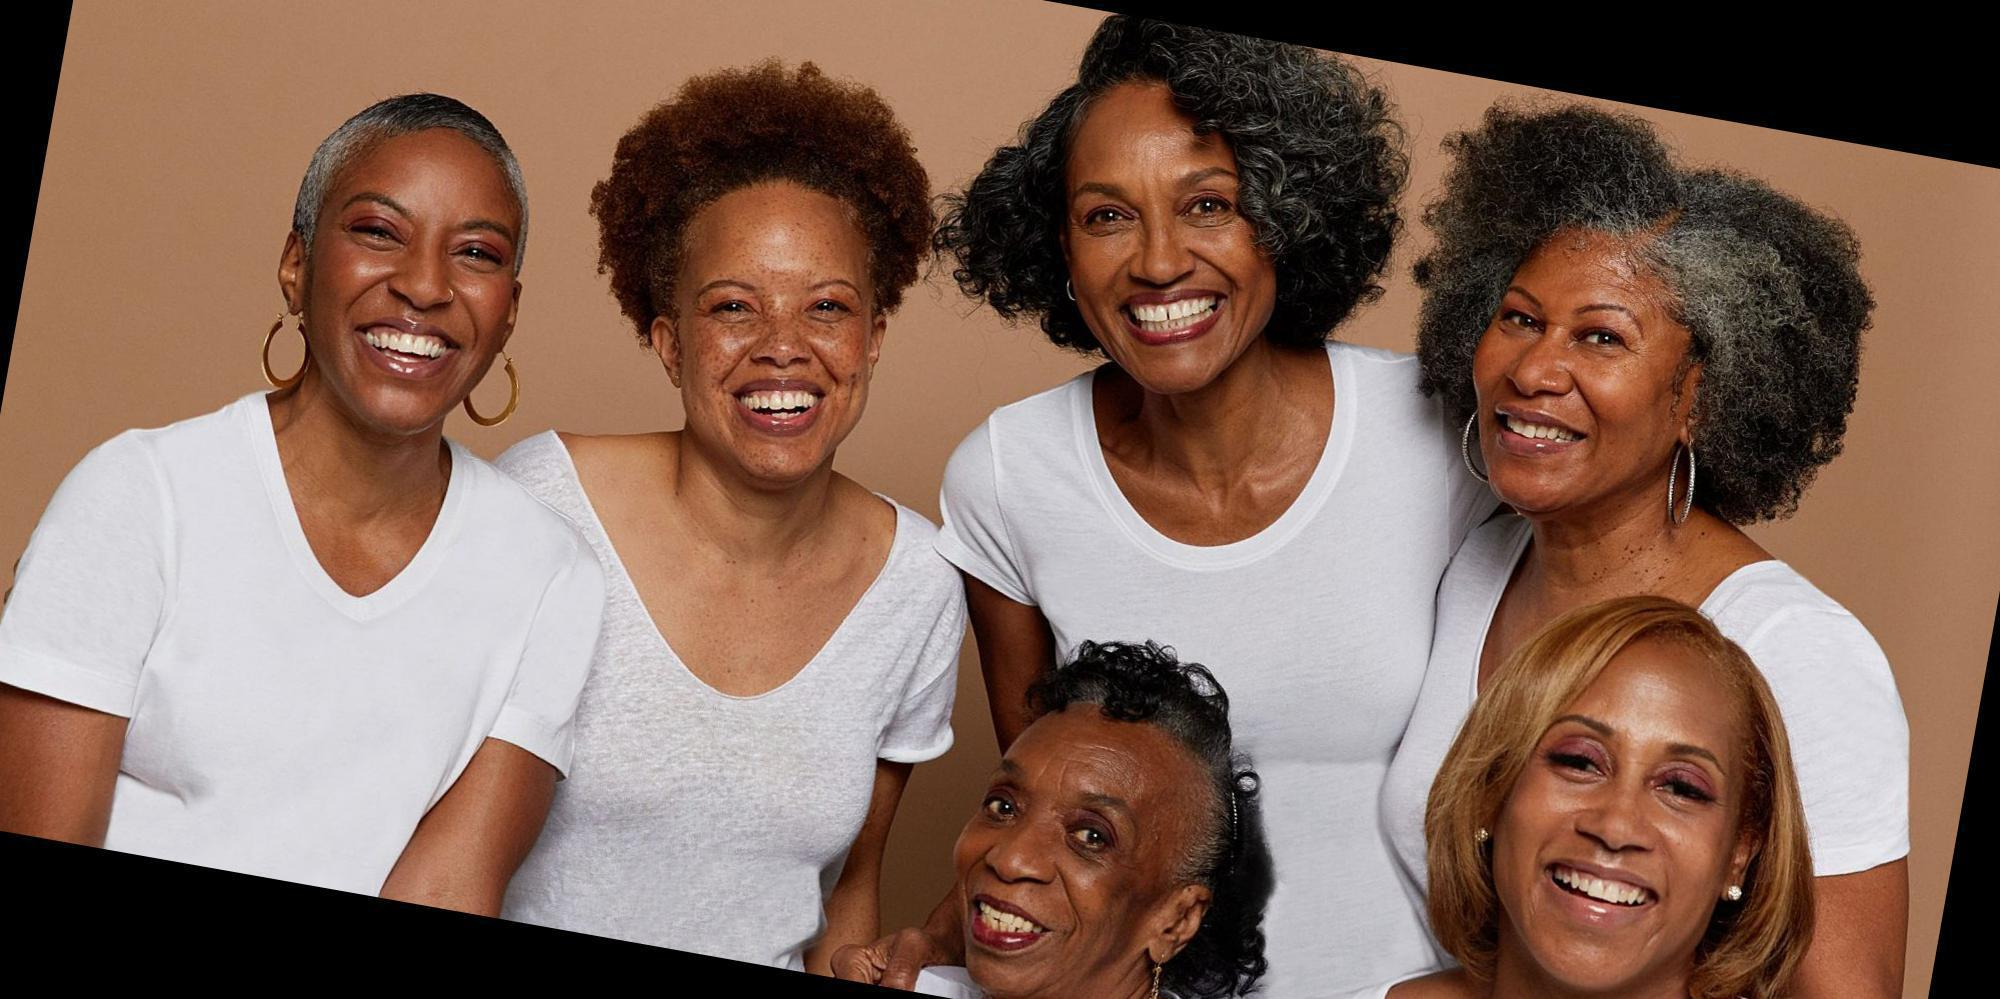Sober: (1062, 112, 1276, 367), (1481, 260, 1682, 495), (337, 145, 505, 411), (693, 204, 860, 455)
